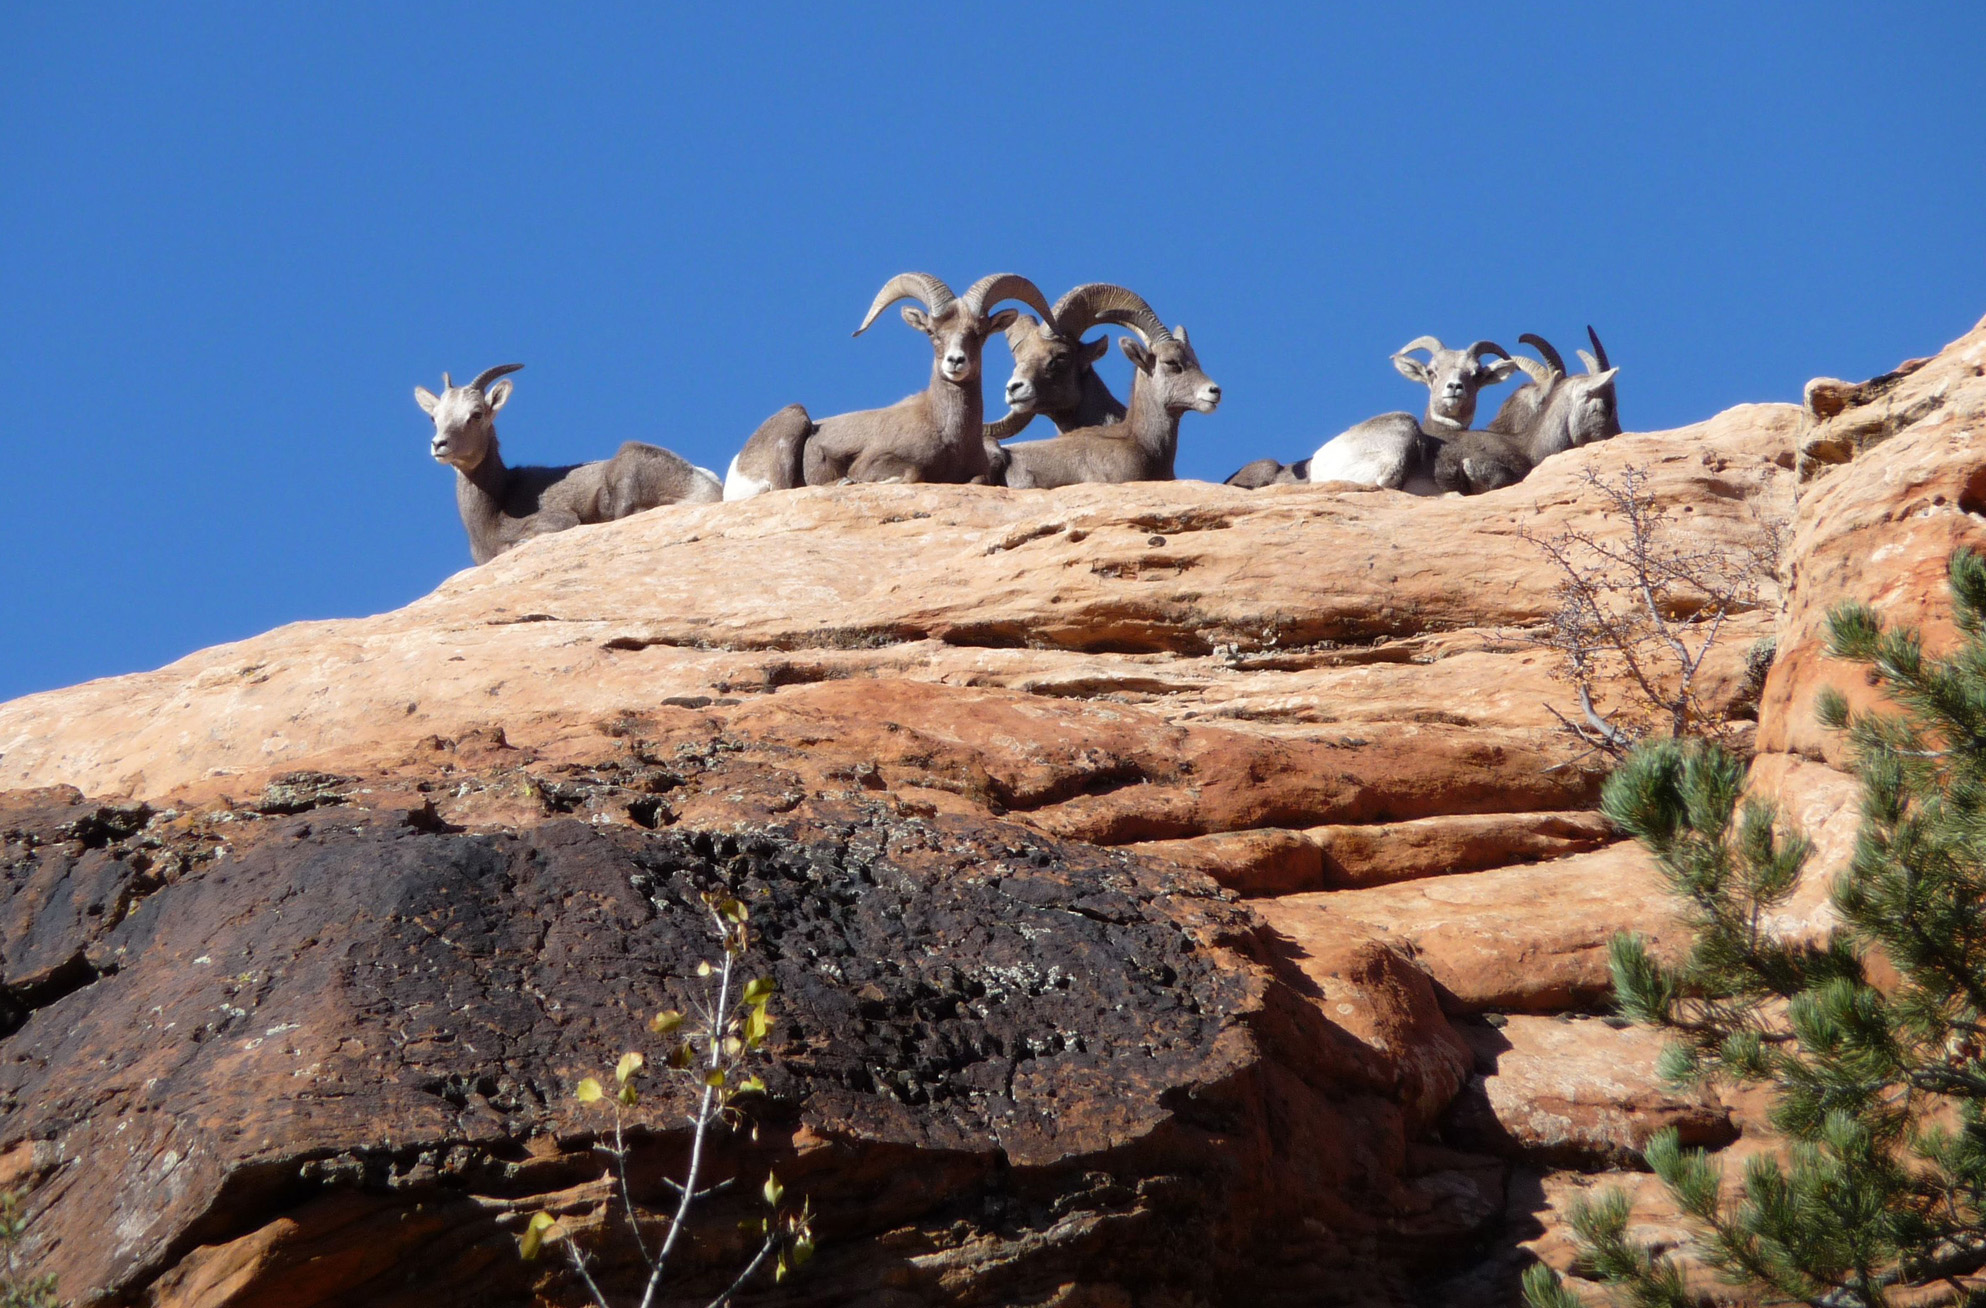sheep: (722, 270, 1056, 507), (410, 353, 716, 561), (1232, 326, 1516, 490), (992, 264, 1176, 507), (1008, 324, 1226, 496), (1420, 326, 1620, 508)
